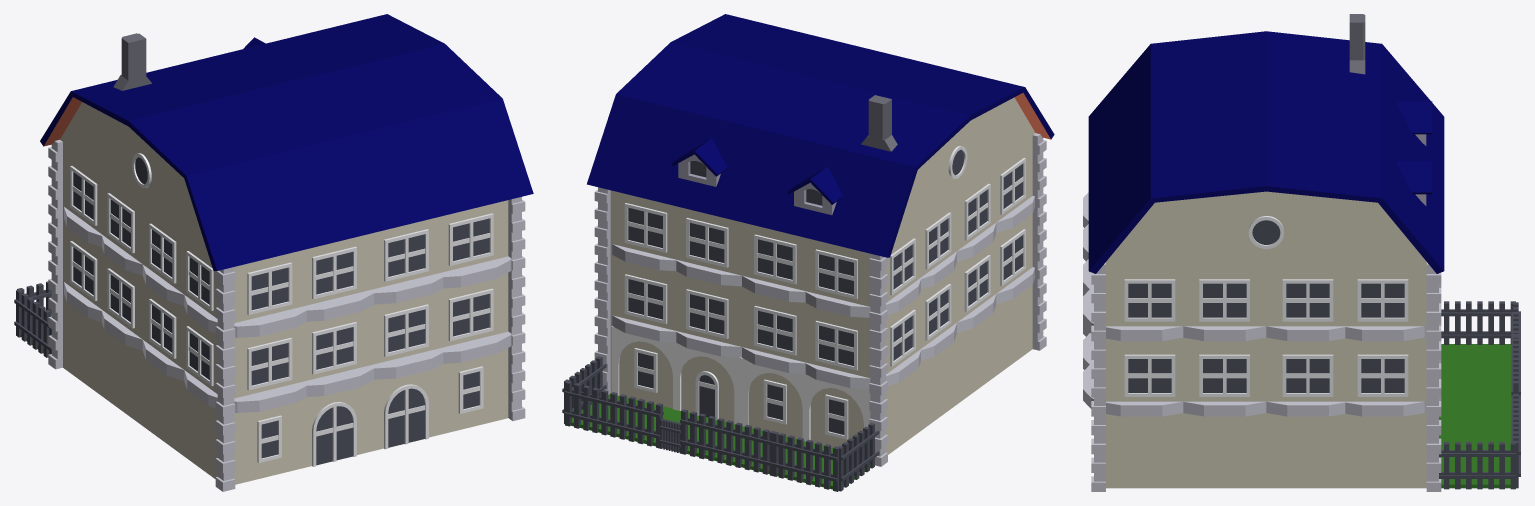
The model's file is MaisonBourge.fbx.
3 renders of one model, left to right at view 1: azimuth 30°, elevation 25°; view 2: azimuth 150°, elevation 25°; view 3: azimuth 270°, elevation 25°, orthographic. The views are drawn at different scales.
Visible parts, largest first — view 1: roof_barn_58, roof_barn_57, block_3, block_0, block_12, block_13, block_11, block_46, block_31, block_1, block_2, door_rounded_wide_124 (+58 smaller); view 2: roof_barn_57, roof_barn_58, block_11, door_gate_67, door_gate_65, block_13, block_12, door_gate_68, block_28, block_3, block_33, block_43 (+74 smaller); view 3: roof_barn_58, roof_barn_57, block_4, block_5, block_6, block_0, block_51, block_50, block_23, block_22, block_40, block_49 (+35 smaller).
Boxes of the visible parts, x1=… form: roof_barn_58: x1=128, y1=44, x2=533, y2=271; roof_barn_57: x1=40, y1=14, x2=444, y2=199; block_3: x1=184, y1=382, x2=297, y2=484; block_0: x1=441, y1=348, x2=508, y2=434; block_12: x1=101, y1=322, x2=142, y2=425; block_13: x1=143, y1=352, x2=184, y2=455; block_11: x1=63, y1=293, x2=101, y2=395; block_46: x1=184, y1=231, x2=297, y2=322; block_31: x1=184, y1=307, x2=297, y2=398; block_1: x1=370, y1=365, x2=441, y2=451; block_2: x1=298, y1=382, x2=369, y2=469; door_rounded_wide_124: x1=312, y1=402, x2=356, y2=466; roof_barn_57: x1=587, y1=42, x2=970, y2=257; roof_barn_58: x1=671, y1=14, x2=1054, y2=190; block_11: x1=810, y1=369, x2=917, y2=454; door_gate_67: x1=707, y1=416, x2=778, y2=476; door_gate_65: x1=564, y1=381, x2=635, y2=441; block_13: x1=957, y1=305, x2=996, y2=404; block_12: x1=917, y1=334, x2=956, y2=432; door_gate_68: x1=768, y1=431, x2=839, y2=491; block_28: x1=810, y1=298, x2=917, y2=377; block_3: x1=996, y1=285, x2=1032, y2=375; block_33: x1=673, y1=271, x2=741, y2=346; block_43: x1=810, y1=220, x2=917, y2=306; roof_barn_58: x1=1088, y1=31, x2=1266, y2=273; roof_barn_57: x1=1266, y1=31, x2=1444, y2=273; block_4: x1=1183, y1=413, x2=1266, y2=488; block_5: x1=1266, y1=413, x2=1349, y2=488; block_6: x1=1349, y1=413, x2=1426, y2=488; block_0: x1=1106, y1=413, x2=1183, y2=488; block_51: x1=1266, y1=262, x2=1349, y2=326; block_50: x1=1183, y1=262, x2=1266, y2=326; block_23: x1=1183, y1=337, x2=1266, y2=401; block_22: x1=1266, y1=337, x2=1349, y2=401; block_40: x1=1349, y1=262, x2=1426, y2=337; block_49: x1=1106, y1=262, x2=1183, y2=326.
Bounding box in the file's own units: 44 × 46 × 52.6.
